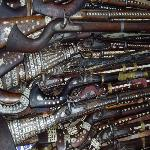Senapan: (1, 0, 150, 150), (4, 35, 150, 97), (4, 96, 150, 150), (0, 0, 150, 36)
